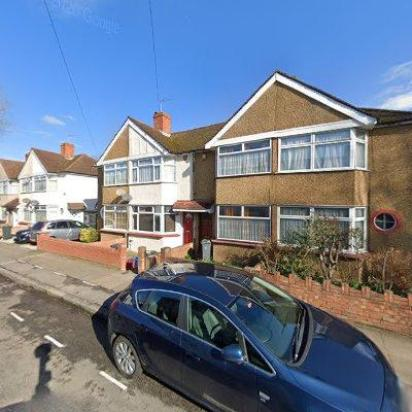stationary-car-offstreet: (105, 258, 412, 412), (28, 218, 94, 246)
stationary-car-onstreet: (15, 227, 33, 243)
